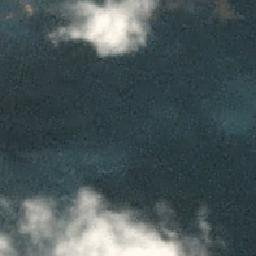cloud: (1, 179, 218, 256), (40, 2, 167, 59)
